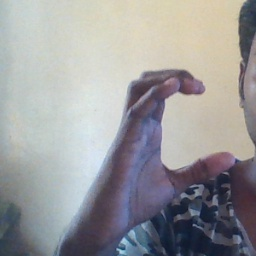C: (111, 63, 237, 190)
